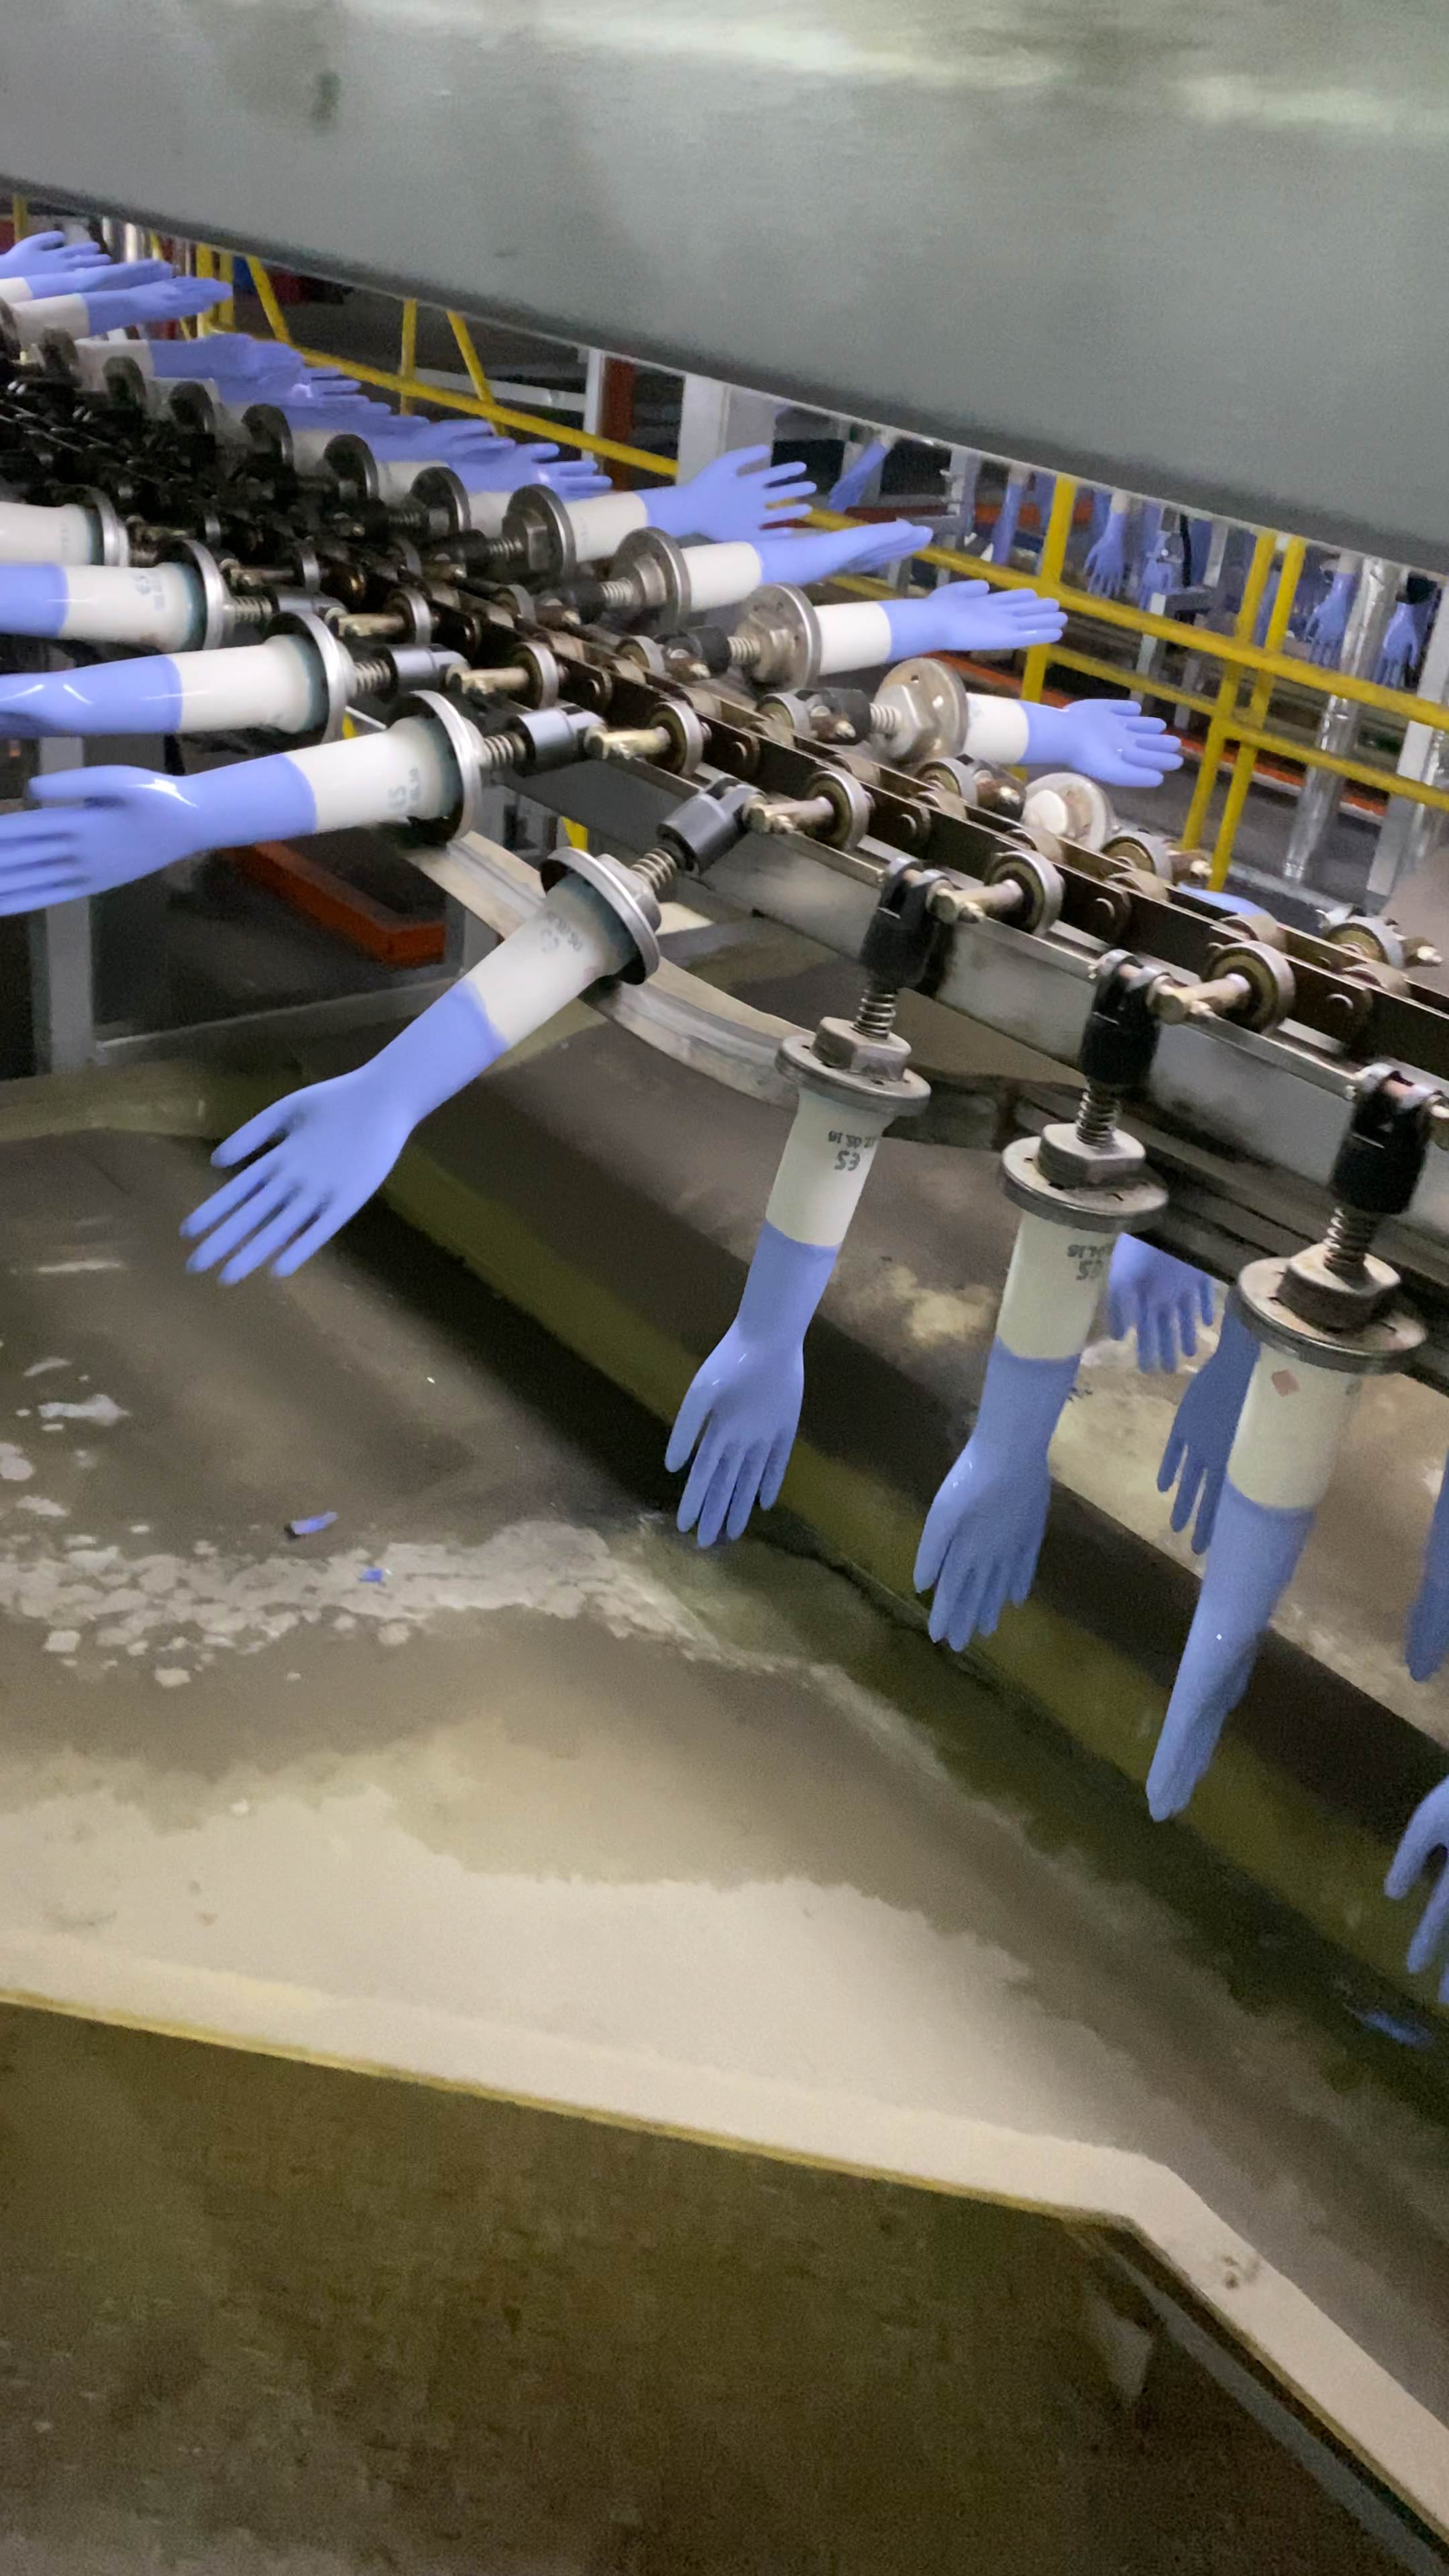glove: (180, 987, 508, 1284), (1145, 1474, 1311, 1822), (667, 1231, 839, 1546), (913, 1353, 1077, 1649), (0, 766, 317, 916), (1157, 1292, 1260, 1550), (649, 446, 817, 543), (1014, 699, 1182, 791), (879, 577, 1069, 658), (1385, 1769, 1449, 2008), (1100, 1238, 1214, 1369), (752, 525, 932, 582), (1407, 1449, 1449, 1679), (455, 442, 614, 497), (372, 419, 511, 474), (218, 366, 366, 414), (87, 276, 230, 324), (152, 333, 299, 377), (0, 230, 111, 274), (25, 264, 166, 294), (1304, 579, 1352, 663), (1371, 602, 1419, 686), (830, 439, 886, 506), (1083, 517, 1127, 598), (1136, 541, 1175, 610), (989, 485, 1024, 554)
